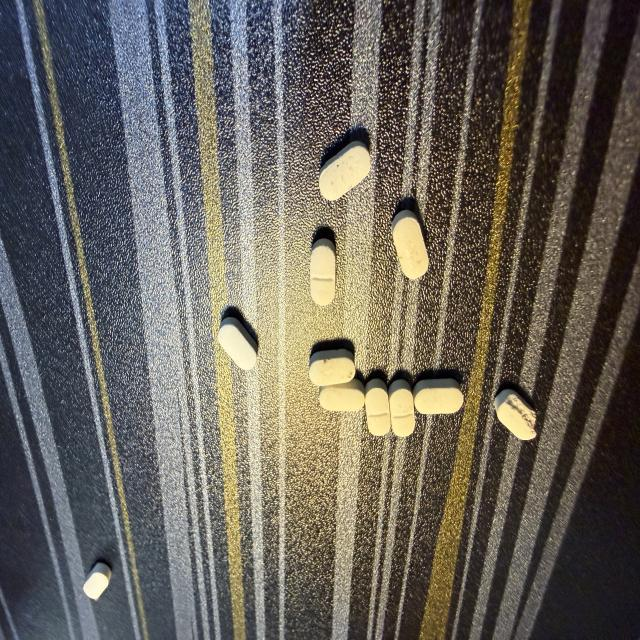pill: (319, 142, 370, 201), (392, 210, 428, 279), (218, 317, 257, 370), (495, 389, 536, 439), (414, 379, 463, 414), (309, 349, 355, 386), (310, 239, 335, 305), (319, 378, 364, 411), (389, 379, 415, 436), (365, 379, 390, 435), (84, 563, 111, 599)
